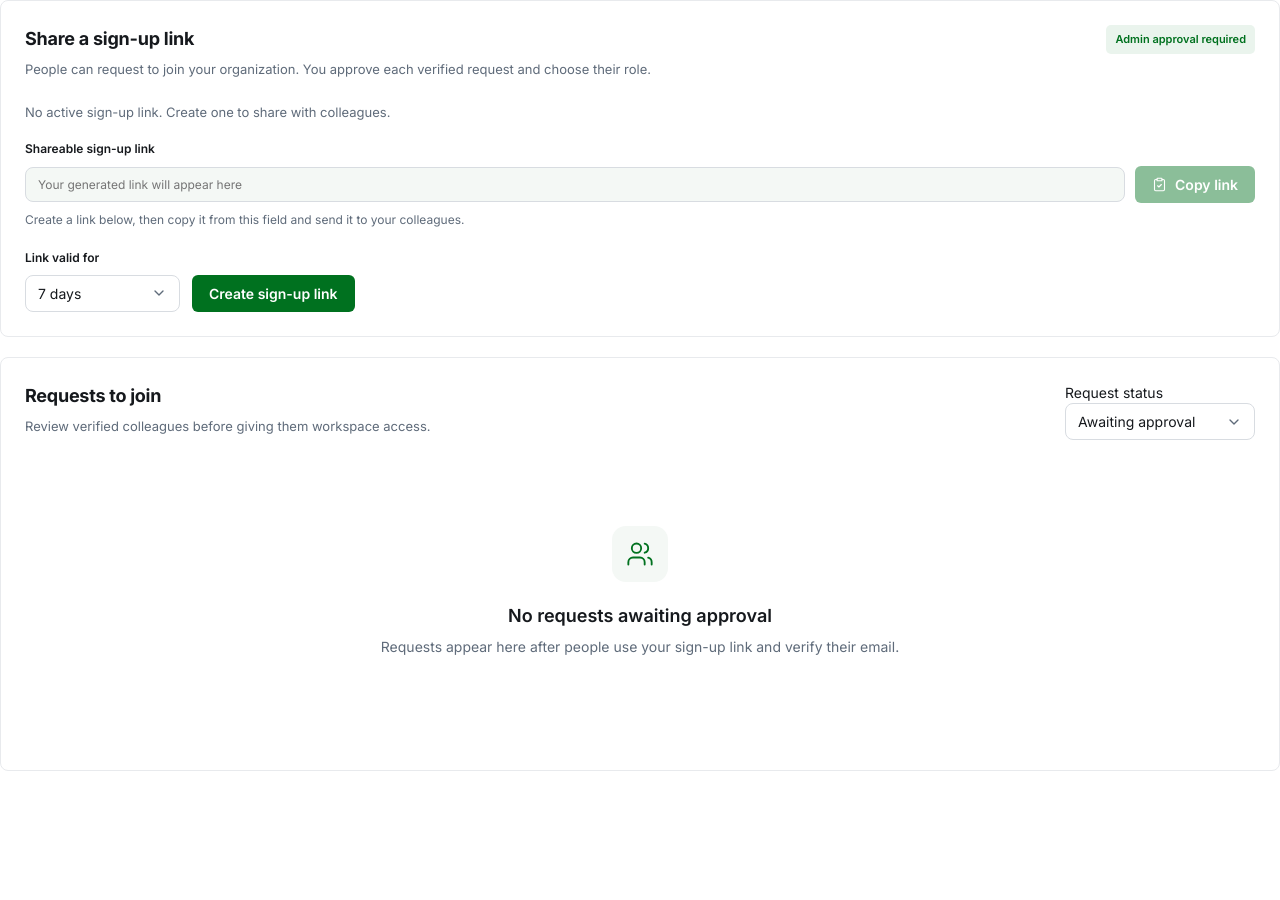
Test: organization sign-up link and approval › creates an expiring link, displays it once and copies it
Expected: the button "Create sign-up link" is shown, [192, 275, 354, 312]
Expected: the field labelled "Shareable sign-up link" is empty, [25, 167, 1125, 202]
Step 1. Select "14 days" in the dropdown labelled "Link valid for" → x=102, y=293, box [25, 275, 180, 312]
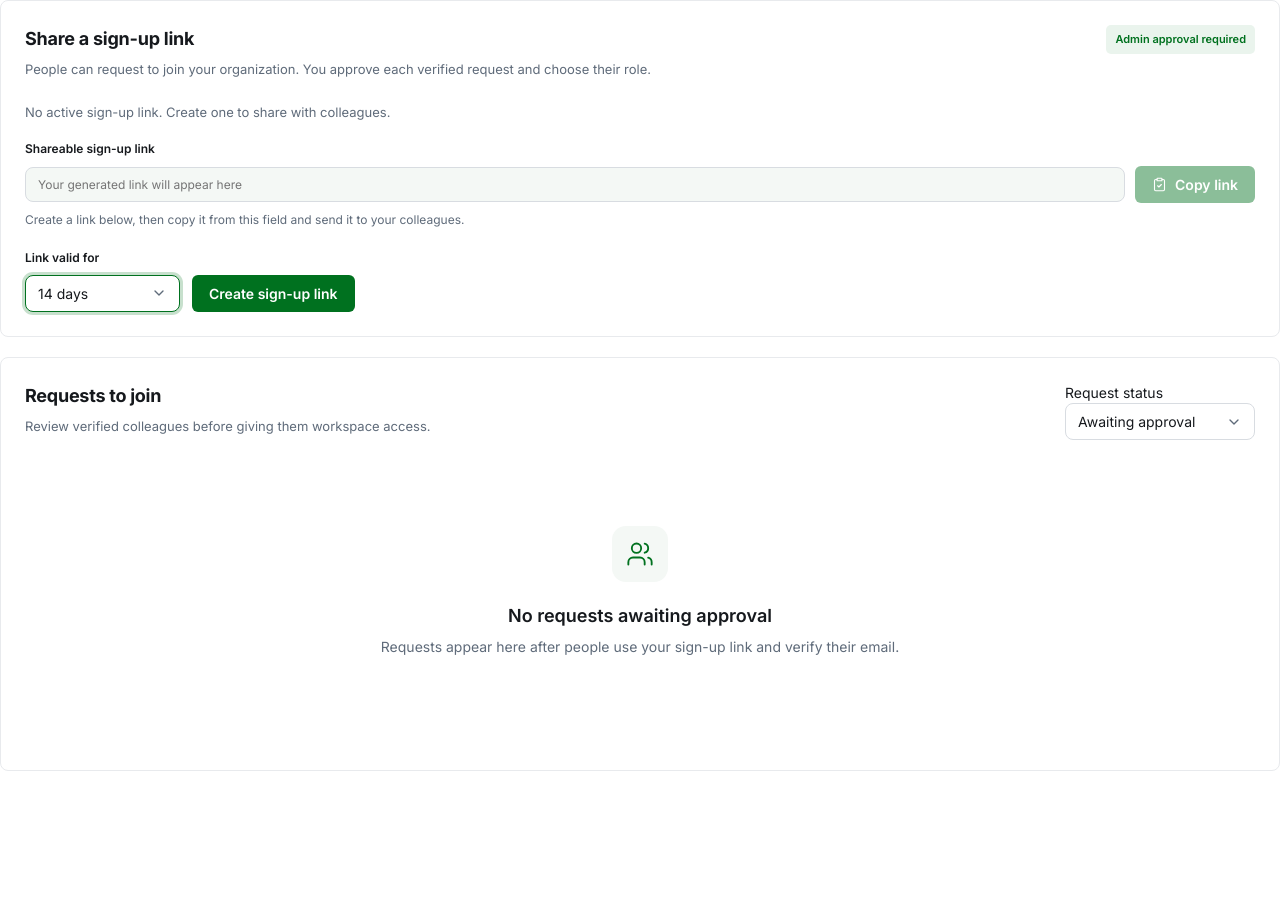
Step 2. Click the button "Create sign-up link" → x=273, y=293, box [192, 275, 354, 312]
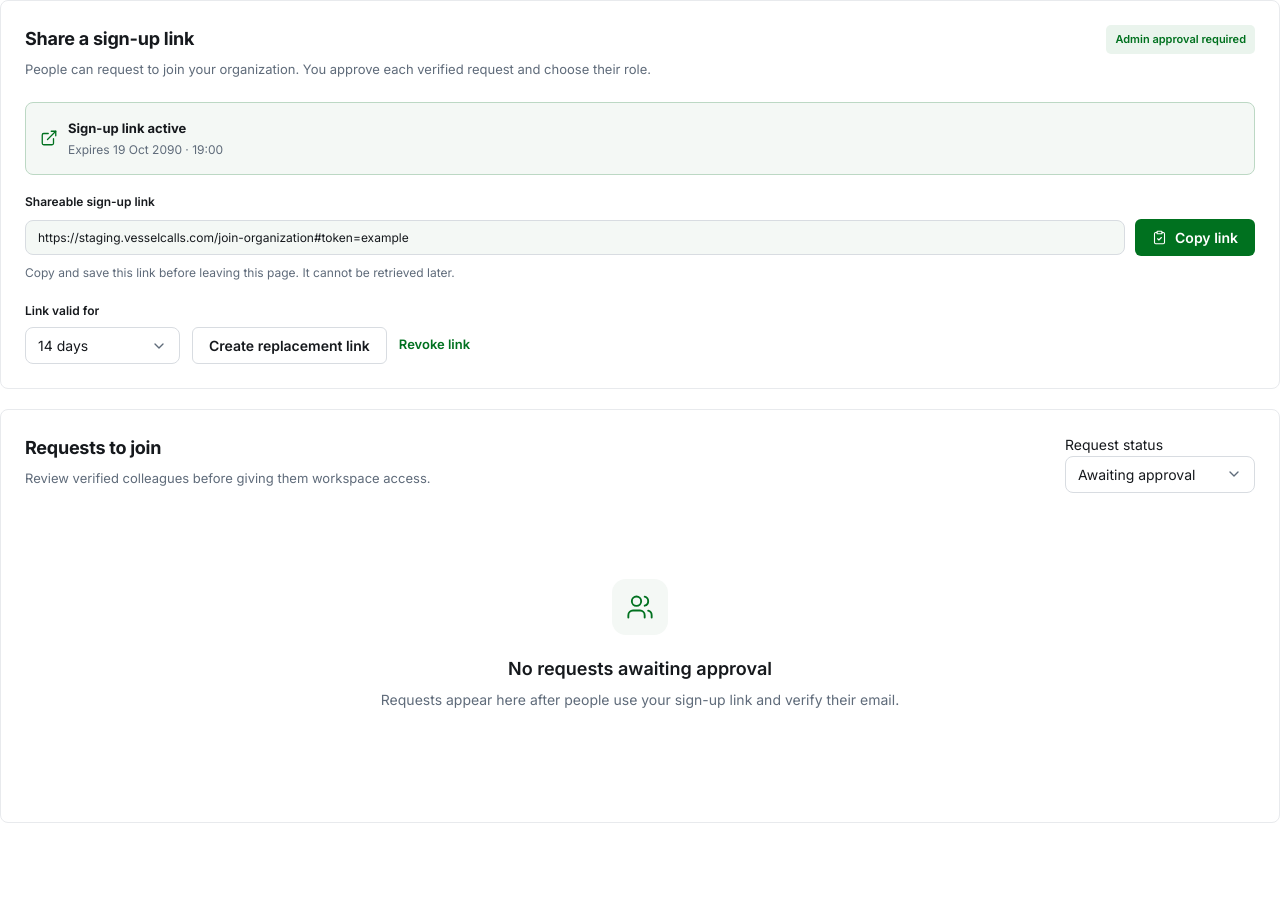
Expected: the field labelled "Shareable sign-up link" holds "https://staging.vesselcalls.com/join-organization#token=example", [25, 220, 1125, 255]
Step 3. Click the button "Copy link" → x=1195, y=237, box [1135, 219, 1255, 256]
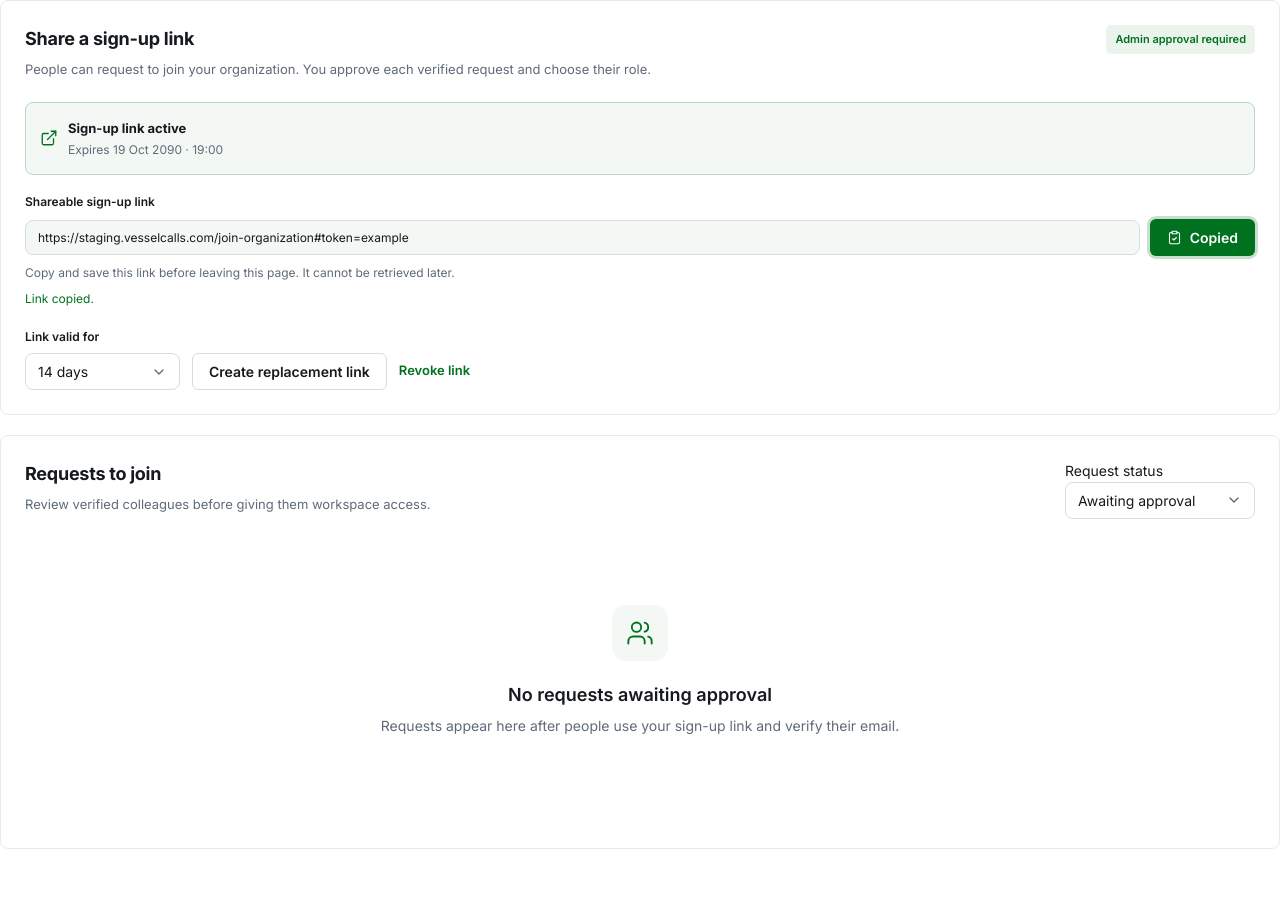
Expected: the text "Link copied." is shown, [25, 291, 94, 306]
